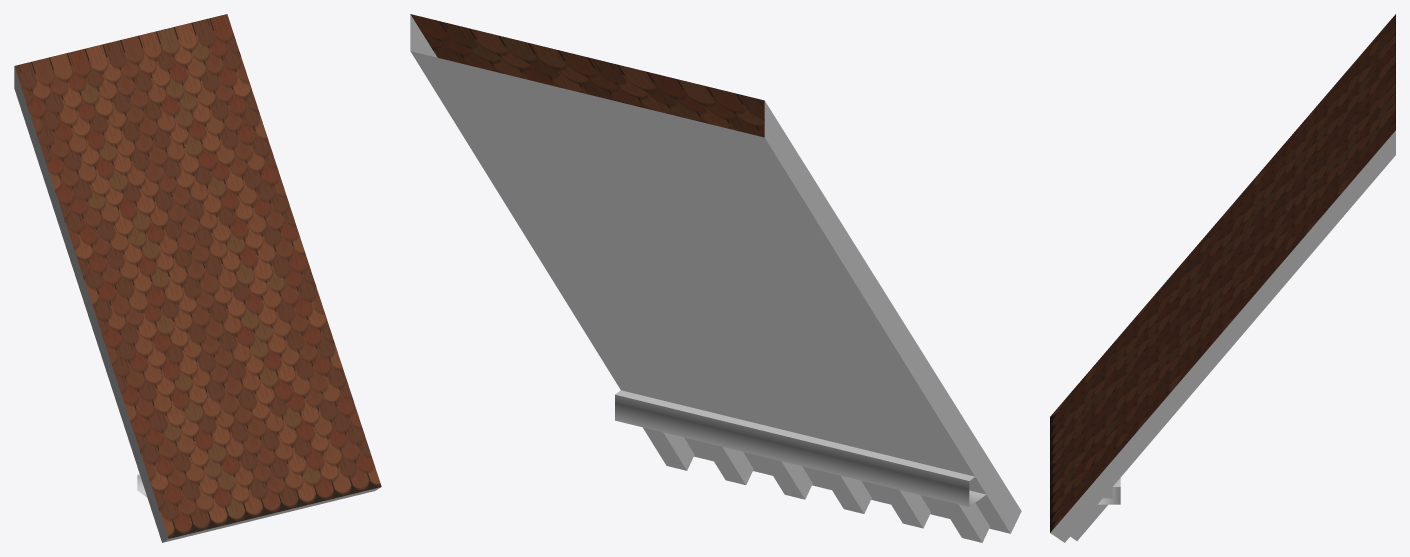
Rendered from Roof_Line_Normal_01_B.FBX.
3 views of the same model, side by side, from view 1: azimuth 30°, elevation 25°; view 2: azimuth 150°, elevation 25°; view 3: azimuth 270°, elevation 25° (orthographic). The views are drawn at different scales.
Parts seen in each view (by area): view 1: Roof_Line_Normal_01_B; view 2: Roof_Line_Normal_01_B; view 3: Roof_Line_Normal_01_B.
Boxes of the visible parts, x1,y1,x2,y2 form: Roof_Line_Normal_01_B: [14, 14, 381, 542]; Roof_Line_Normal_01_B: [410, 14, 1021, 542]; Roof_Line_Normal_01_B: [1050, 14, 1395, 542].
Size of the model in its own units: 6 by 10.04 by 7.53.
